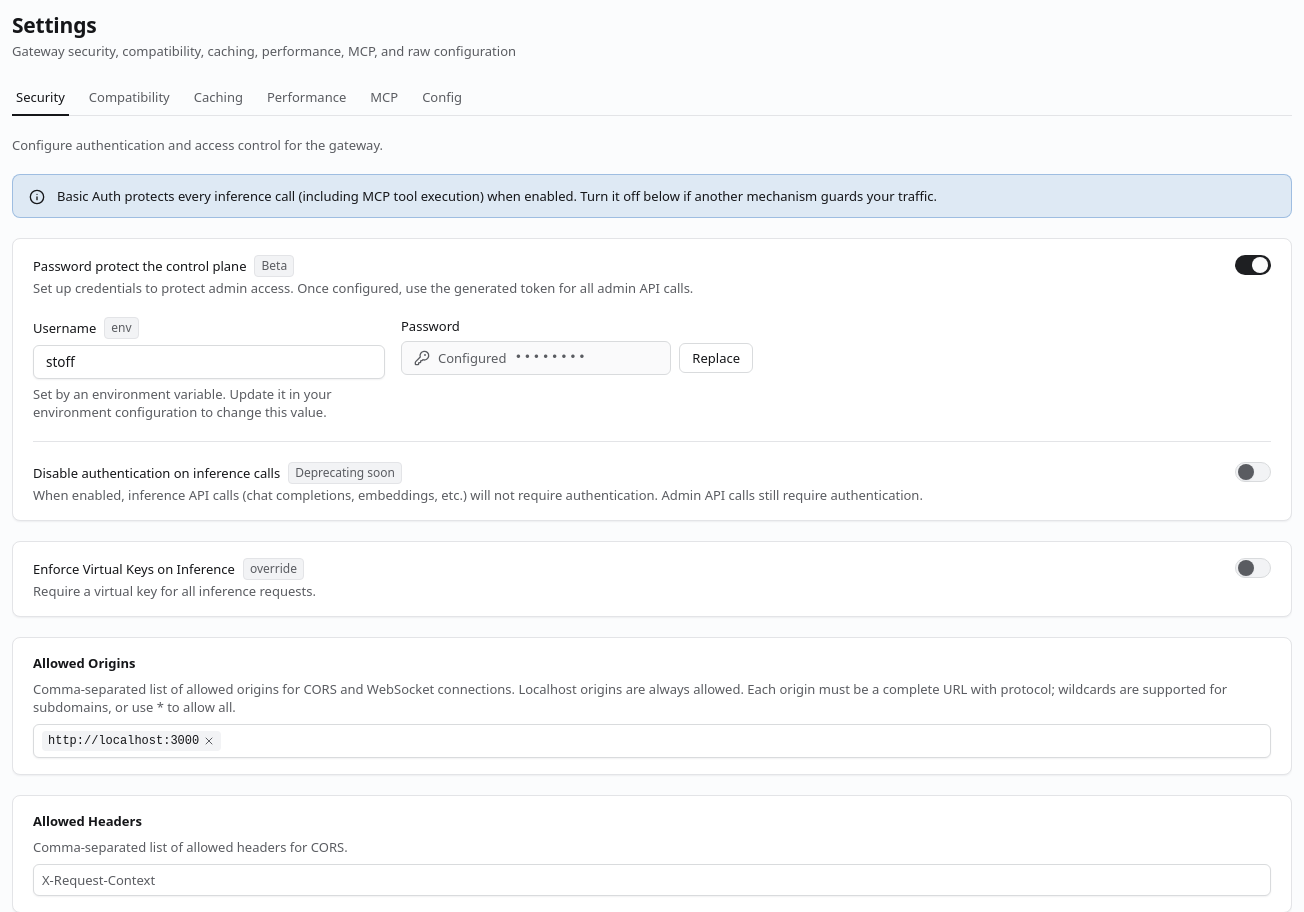
SettingsView performance › renders the two tuning cards and saves a changed value
The image size is (1304, 912).
Click the tab "Performance" at [307, 98], box [263, 80, 350, 116]
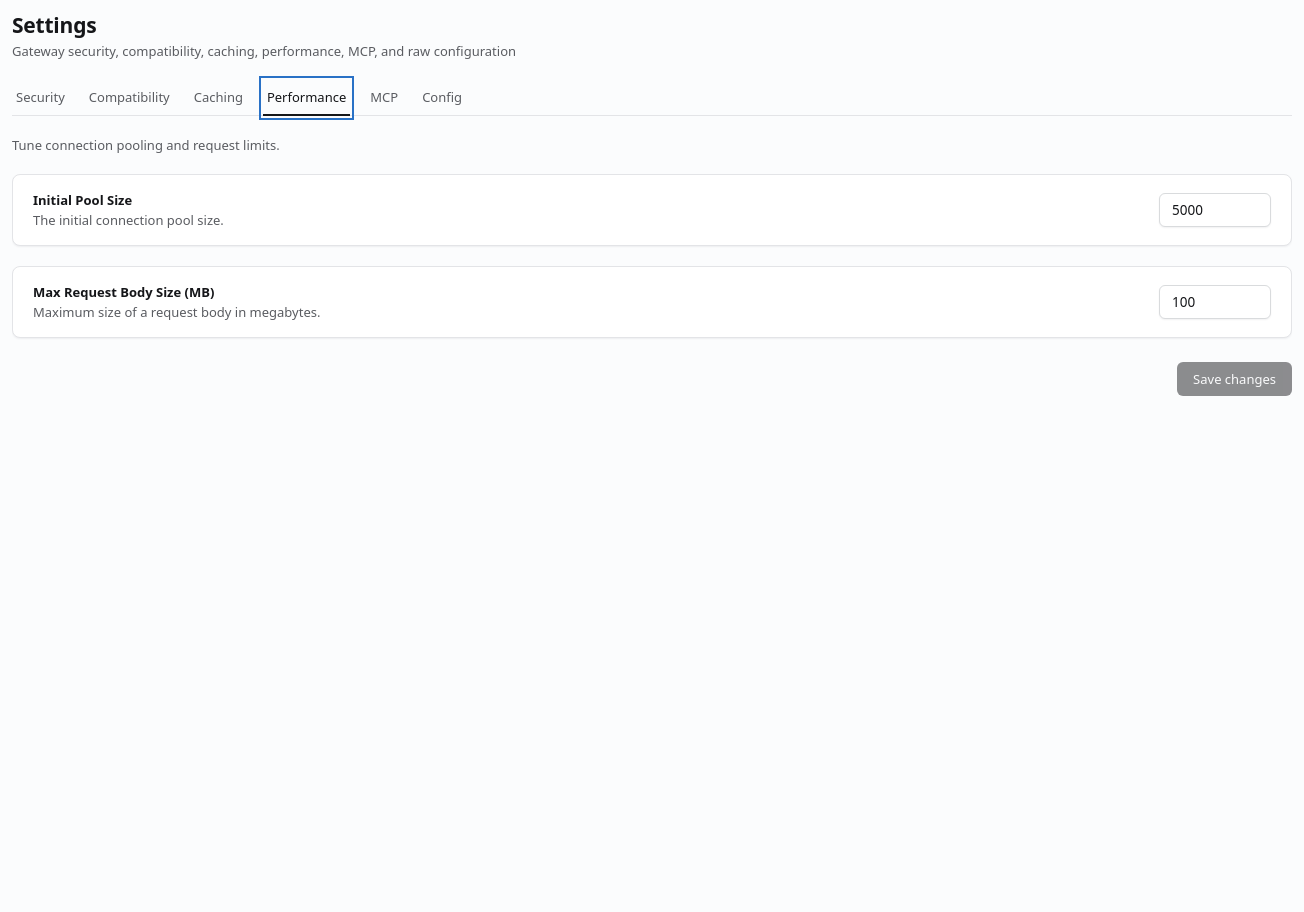
expect the number field labelled "Initial Pool Size" holds "5000": met, box [1159, 193, 1271, 227]
Replace the text in the number field labelled "Max Request Body Size (MB)" with "250" at [1215, 302], box [1159, 285, 1271, 319]
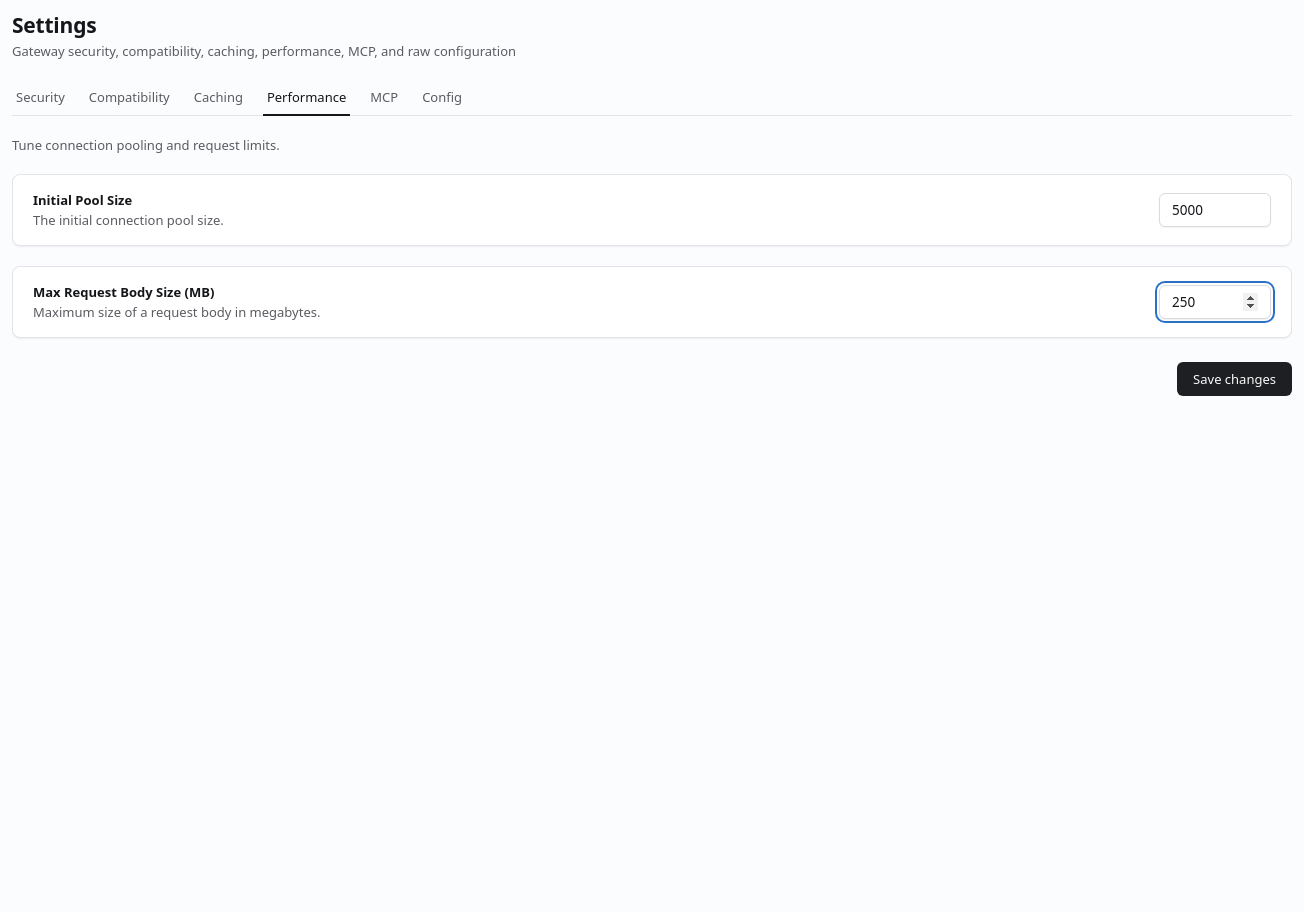
Click the button "Save changes" at [1235, 379], box [1177, 362, 1292, 396]
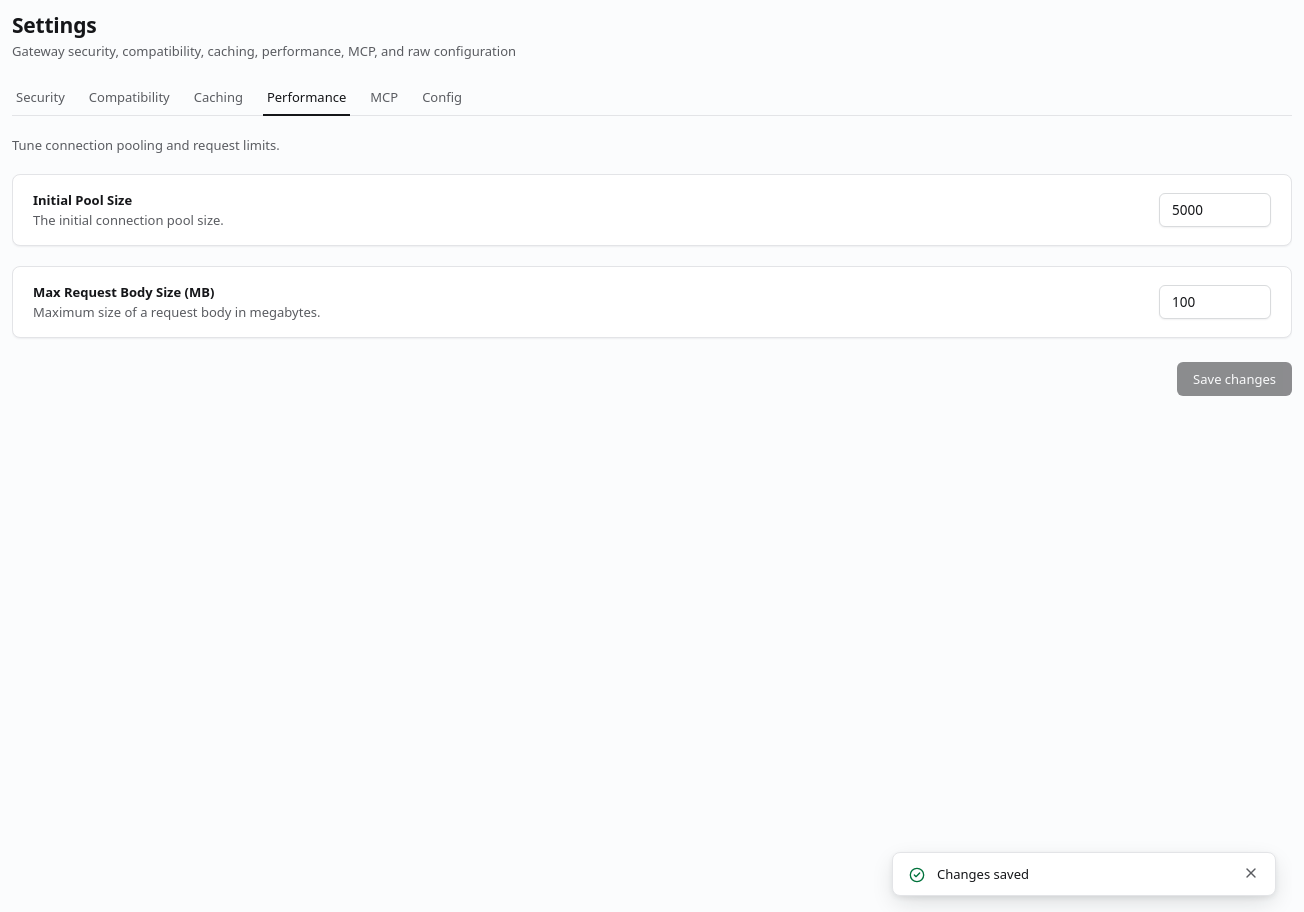
expect the text "Changes saved" is shown: met, box [937, 865, 1029, 883]
